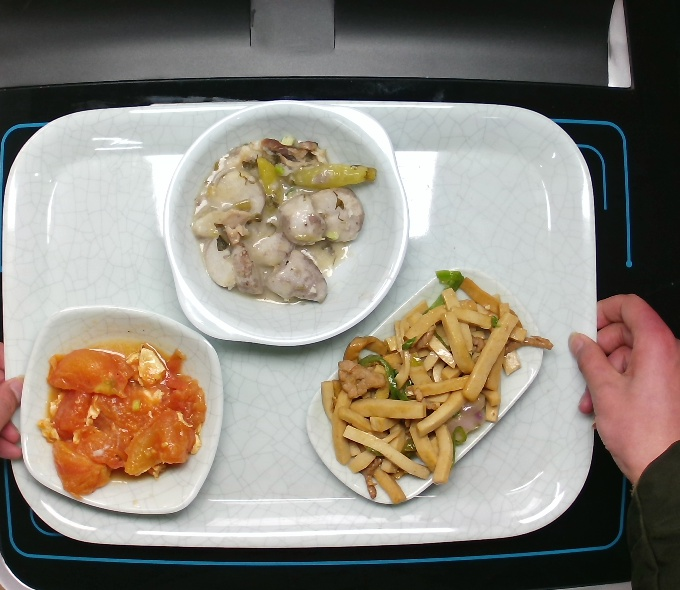wcq-FanQieChaoDan: (37, 327, 211, 507)
wcq-QianYeDouFu: (316, 257, 560, 517)
wcq-YangYu: (188, 128, 382, 324)
